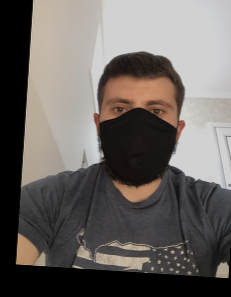with_mask: (96, 89, 176, 187)
